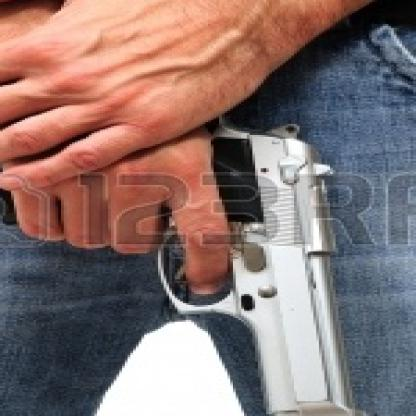gun: (0, 81, 380, 414)
